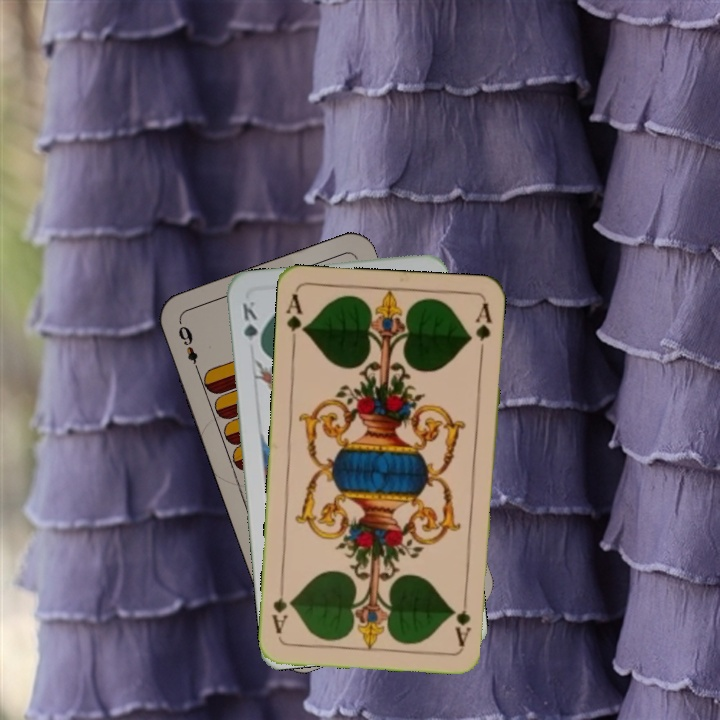E9: (174, 319, 203, 376)
GA: (282, 290, 309, 349), (451, 590, 474, 649)
GK: (238, 297, 264, 353)
